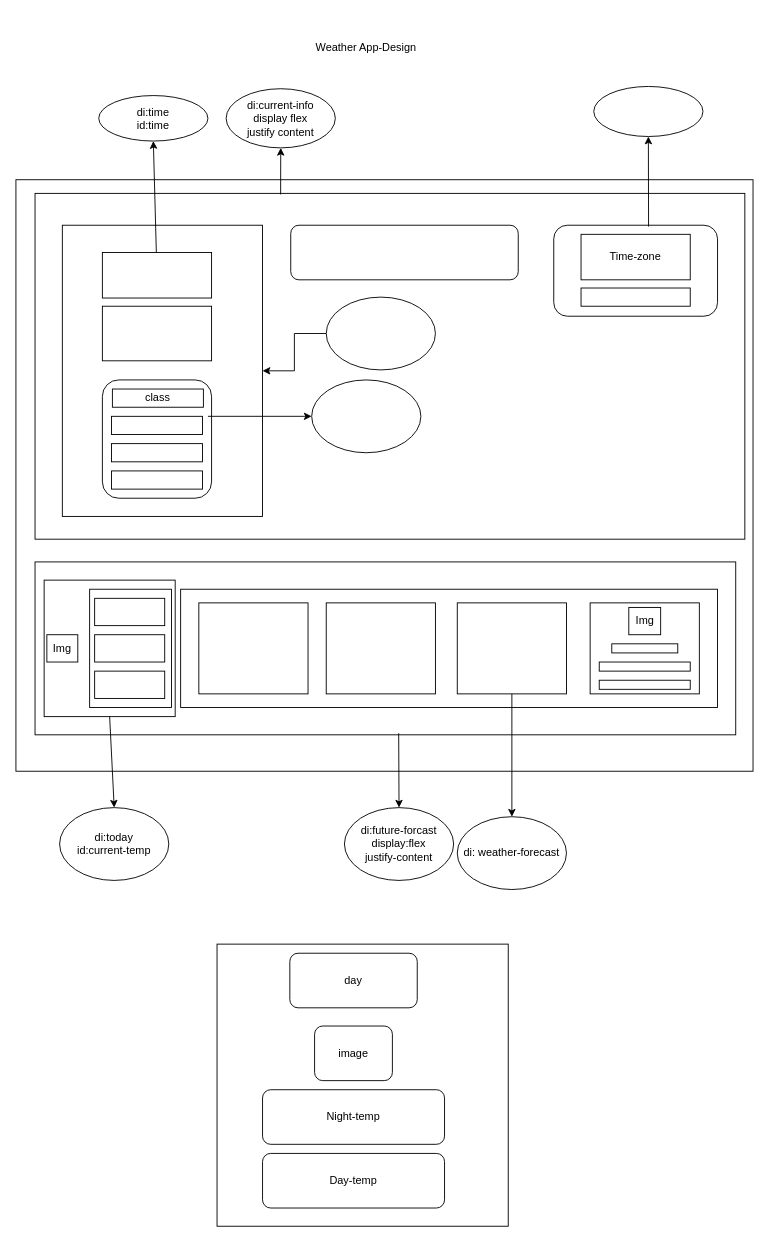
Image size: 769x1242. Some labels were removed from this diagram. Each missing label, with the centre of its shape:
"date" goes at (156,333).
"di: date-container" goes at (380,333).
"di:others id: current-weather-items" goes at (366,416).
"di:place-container" goes at (648,111).
"lat-lon" goes at (635,296).
"Search-box" goes at (404,252).
"time" goes at (156,275).
